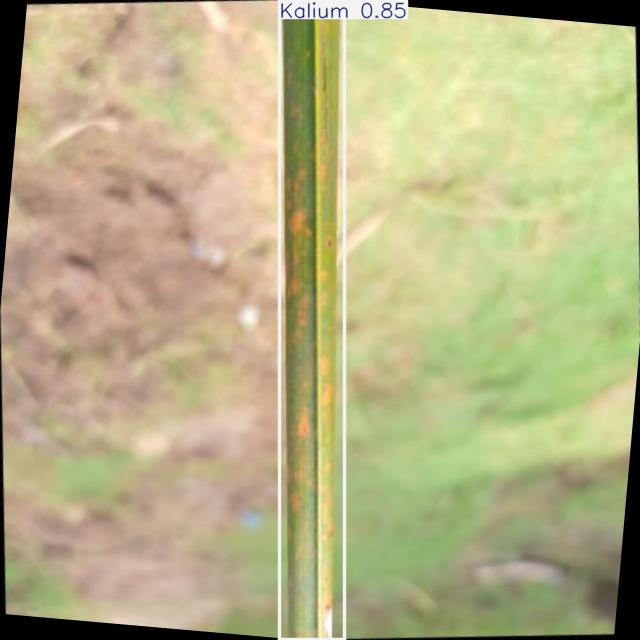Kalium: (279, 1, 344, 640)
